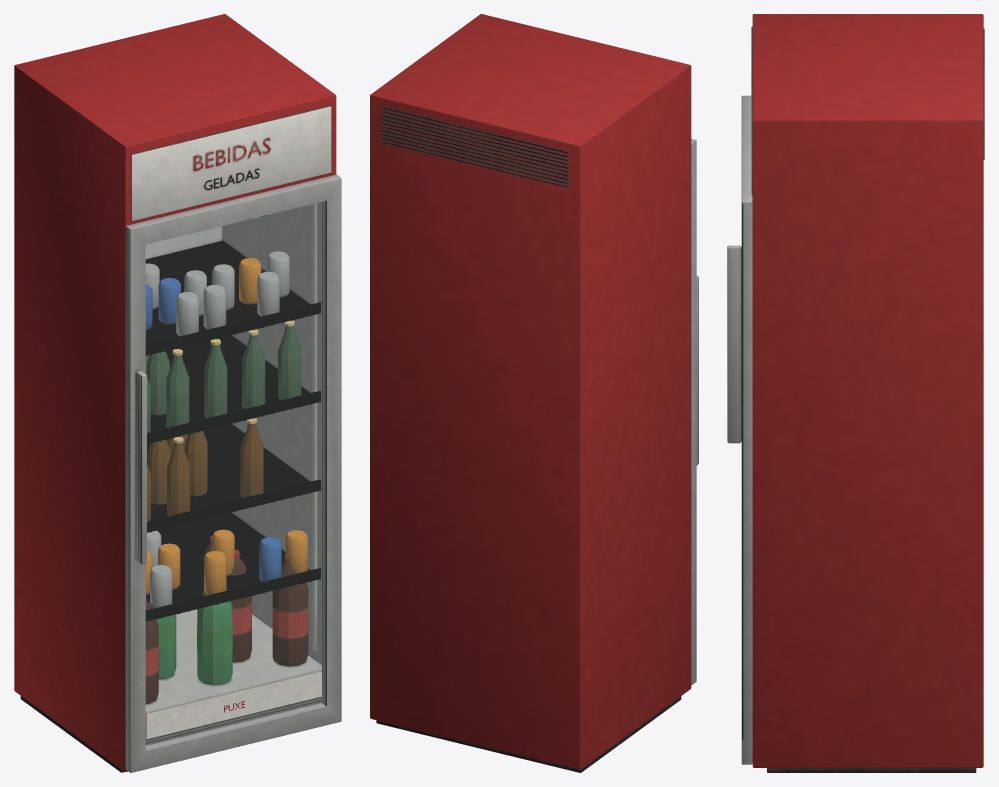
Rendered from geladeira_bebidas.glb.
3 views of the same model, side by side, from view 1: azimuth 30°, elevation 25°; view 2: azimuth 150°, elevation 25°; view 3: azimuth 270°, elevation 25° (orthographic). The views are drawn at different scales.
Visible parts, largest first — view 1: geladeira, vidro_porta, porta; view 2: geladeira, porta; view 3: geladeira, porta.
Part boxes in pixels (x1,y1,x2,y2): geladeira: (14, 14, 336, 772); vidro_porta: (146, 202, 323, 747); porta: (125, 174, 341, 772); geladeira: (370, 14, 691, 772); porta: (691, 139, 698, 685); geladeira: (751, 14, 984, 772); porta: (727, 95, 752, 764).
Size of the model in its own units: 0.7 by 2 by 0.713.
Materials: 3 (2 with a texture image).
